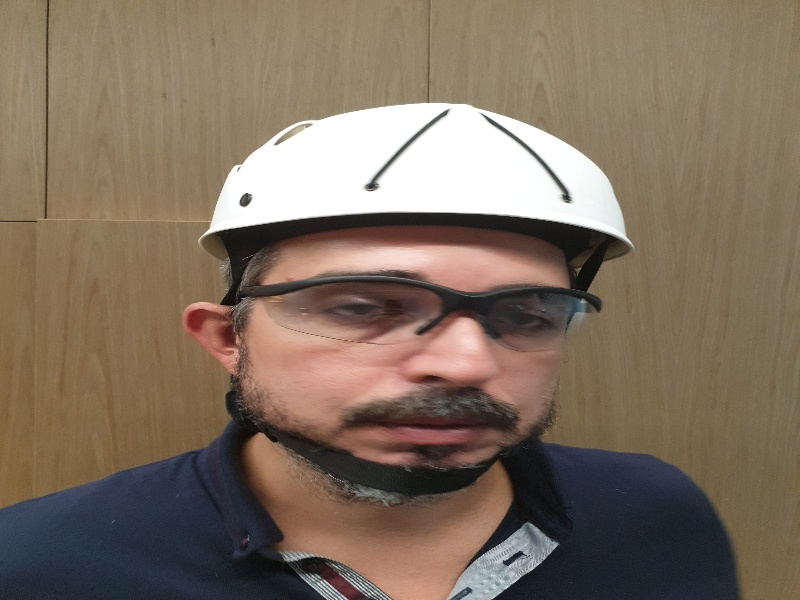Baret: (198, 102, 633, 254)
Gozluk: (224, 278, 600, 355)
